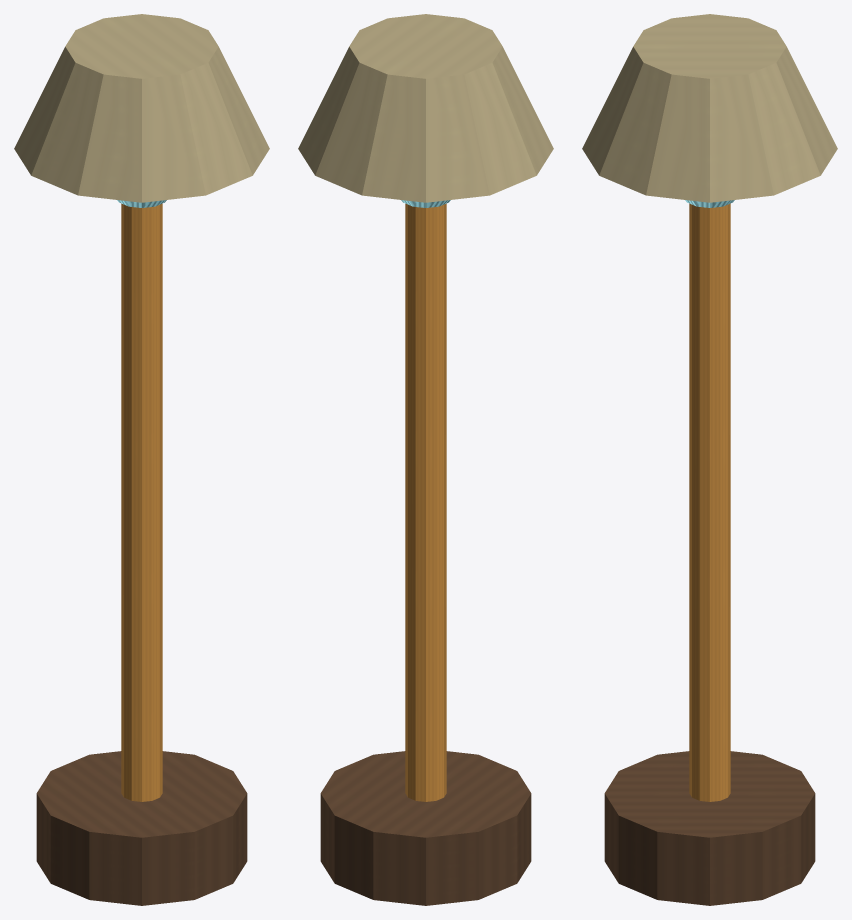
File: atlas100-clockwork-util01.glb
The picture shows the model from 3 angles, left to right: view 1: azimuth 30°, elevation 25°; view 2: azimuth 150°, elevation 25°; view 3: azimuth 270°, elevation 25°; orthographic projection.
Visible parts, largest first — view 1: atlas100-clockwork-util01:part-002, atlas100-clockwork-util01:part-000, atlas100-clockwork-util01:part-001; view 2: atlas100-clockwork-util01:part-002, atlas100-clockwork-util01:part-000, atlas100-clockwork-util01:part-001; view 3: atlas100-clockwork-util01:part-002, atlas100-clockwork-util01:part-000, atlas100-clockwork-util01:part-001.
Part boxes in pixels (x1,y1,x2,y2): atlas100-clockwork-util01:part-002: [14, 14, 269, 202]; atlas100-clockwork-util01:part-000: [36, 751, 247, 905]; atlas100-clockwork-util01:part-001: [121, 203, 162, 801]; atlas100-clockwork-util01:part-002: [298, 14, 553, 202]; atlas100-clockwork-util01:part-000: [320, 751, 531, 905]; atlas100-clockwork-util01:part-001: [405, 203, 446, 801]; atlas100-clockwork-util01:part-002: [582, 14, 837, 202]; atlas100-clockwork-util01:part-000: [604, 751, 815, 905]; atlas100-clockwork-util01:part-001: [689, 203, 730, 801].
Size of the model in its own units: 0.7426 by 2.61 by 0.7426.
4 materials, 4 textured.
